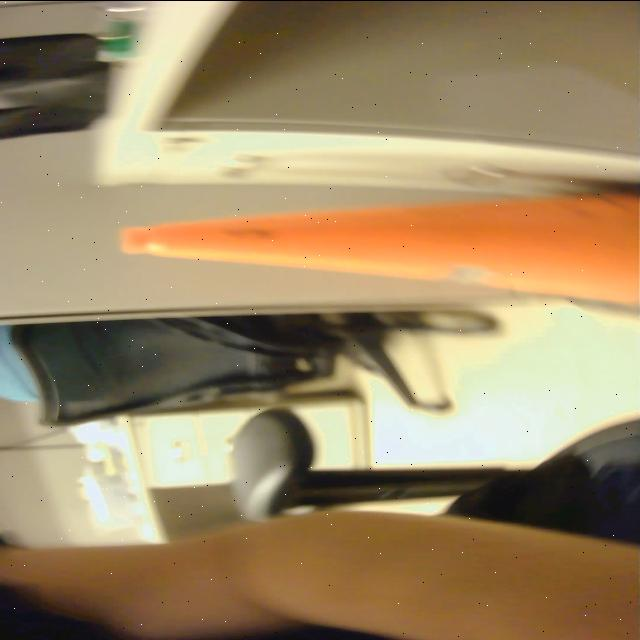traffic cone: (111, 170, 640, 324)
